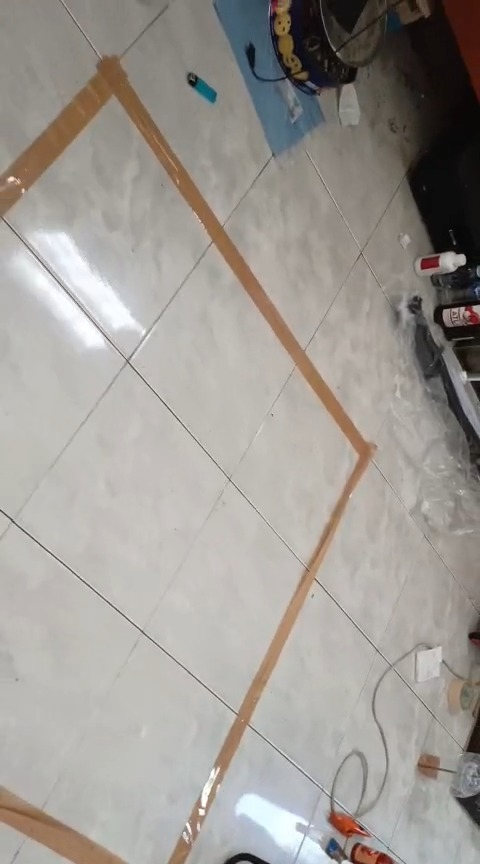floor marking: (1, 57, 373, 863), (0, 789, 125, 863)
